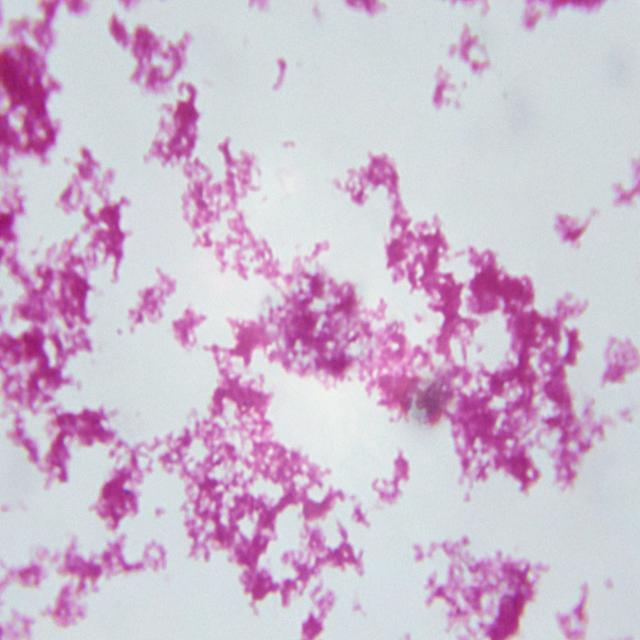Rod_bacteria: (1, 1, 639, 638)
